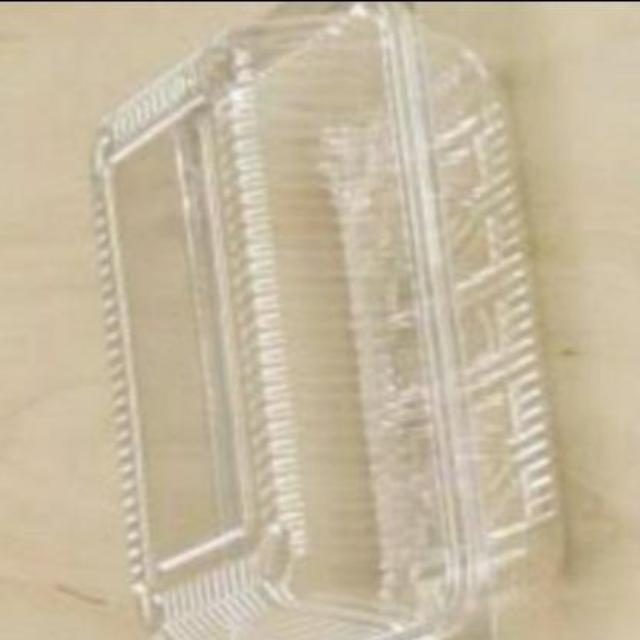plastic_box: (88, 2, 568, 638)
